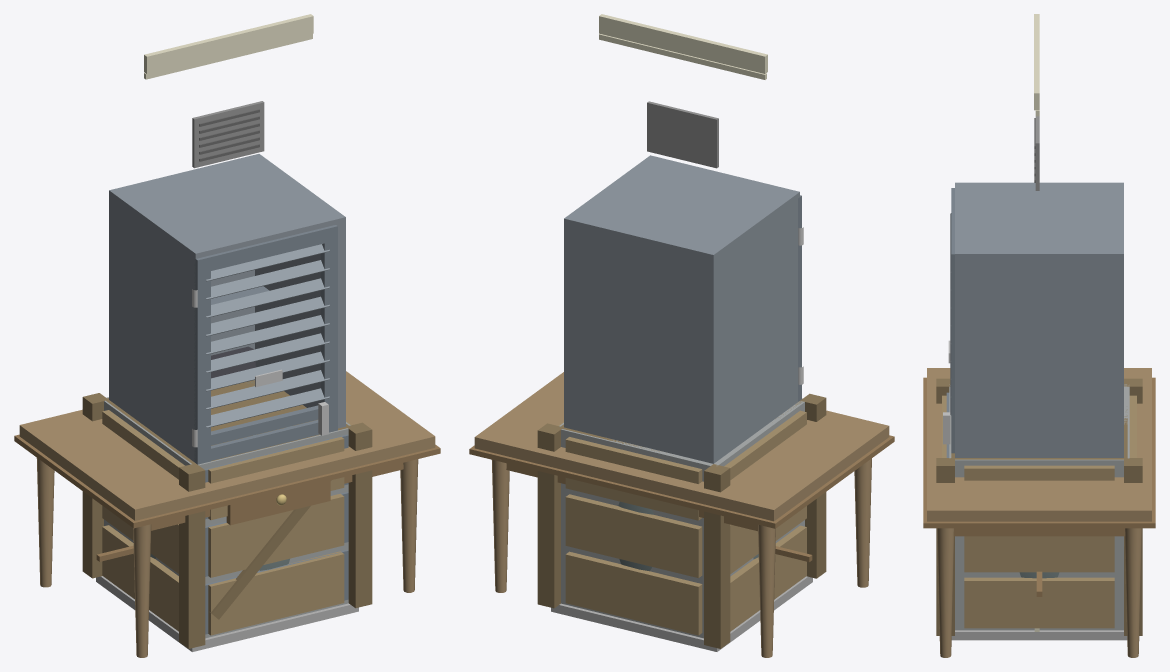
Rendered from environment.glb.
The picture shows the model from 3 angles, left to right: view 1: azimuth 30°, elevation 25°; view 2: azimuth 150°, elevation 25°; view 3: azimuth 270°, elevation 25°; orthographic projection. The views are drawn at different scales.
Parts seen in each view (by area): view 1: locker, crate, table, Door, trim, cabinet, vent, ceilinglight; view 2: locker, crate, table, cabinet, trim, vent, ceilinglight, Door; view 3: locker, table, crate, cabinet, ceilinglight, Door, trim, vent.
Boxes of the visible parts, x1,y1,x2,y2 form: locker: (109, 154, 345, 462); crate: (82, 380, 372, 648); table: (14, 371, 440, 657); Door: (192, 225, 337, 464); trim: (144, 14, 313, 79); cabinet: (104, 397, 350, 638); vent: (192, 101, 264, 168); ceilinglight: (96, 576, 358, 651); locker: (564, 155, 799, 463); crate: (537, 393, 826, 648); table: (469, 372, 894, 657); cabinet: (559, 398, 804, 638); trim: (599, 14, 767, 79); vent: (647, 101, 718, 168); ceilinglight: (551, 576, 812, 651); Door: (798, 195, 803, 401); locker: (955, 182, 1123, 457); table: (923, 368, 1155, 657); crate: (936, 378, 1142, 635); cabinet: (946, 384, 1129, 630); ceilinglight: (951, 630, 1127, 640); Door: (943, 188, 954, 453); trim: (1034, 14, 1039, 631); vent: (1034, 116, 1039, 190).
Size of the model in its own units: 1.84 by 3.24 by 1.24.
